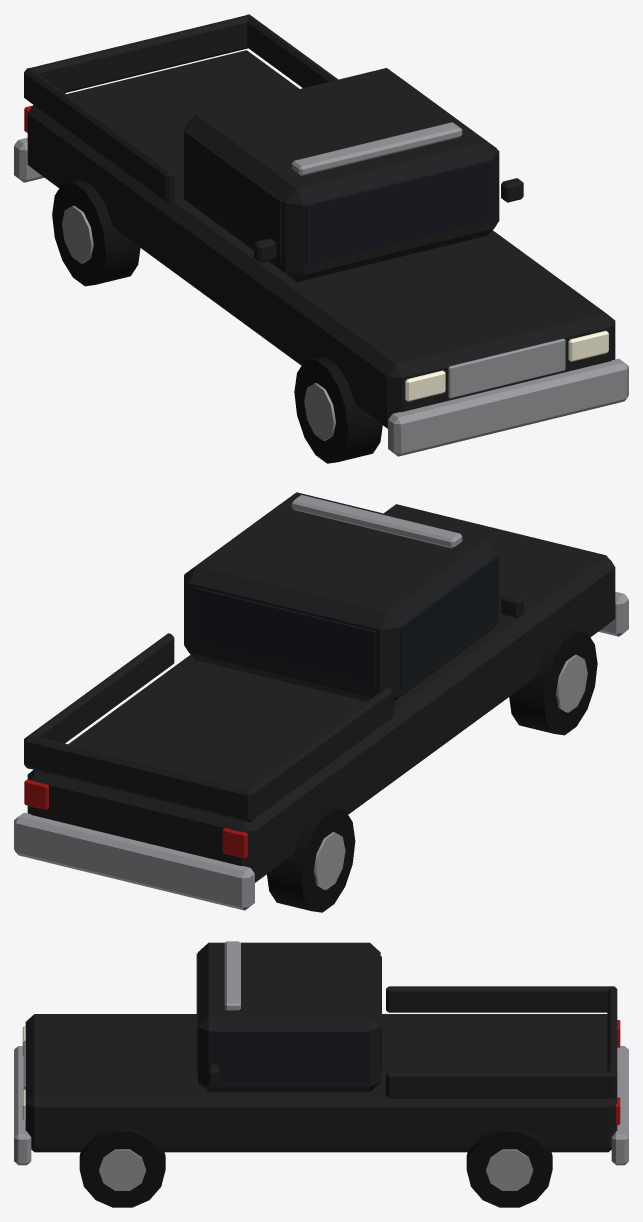
Rendered from pickup_black.dae.
3 renders of one model, top to bottom at view 1: azimuth 30°, elevation 25°; view 2: azimuth 150°, elevation 25°; view 3: azimuth 270°, elevation 25°, orthographic. The views are drawn at different scales.
Parts seen in each view (by area): view 1: marker; view 2: marker; view 3: marker.
Part boxes in pixels (<box>): marker: <box>14,14,628,463</box>; marker: <box>14,492,628,912</box>; marker: <box>14,941,628,1207</box>.
Bounding box in the file's own units: 2.28 × 5.72 × 1.92.
Materials: 1 (1 with a texture image).
